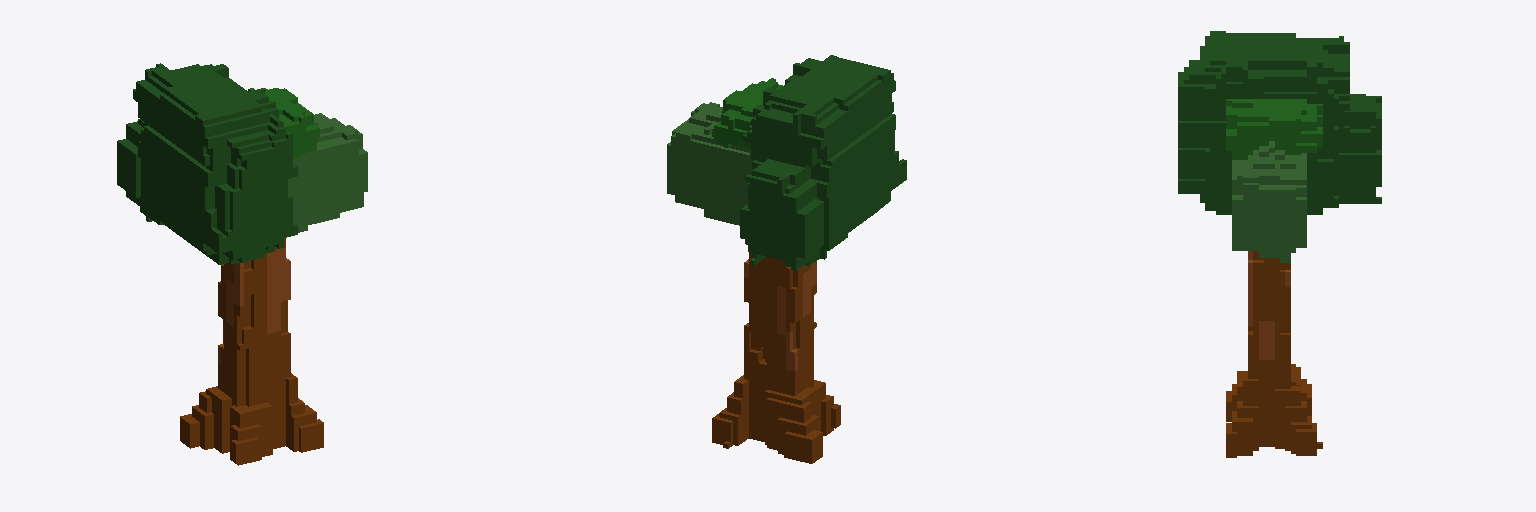
3 renders of one model, left to right at view 1: azimuth 30°, elevation 25°; view 2: azimuth 150°, elevation 25°; view 3: azimuth 270°, elevation 25°, orthographic.
Visible parts, largest first — view 1: object 1; view 2: object 1; view 3: object 1.
Boxes of the visible parts, <box> form: object 1: <box>117,63,367,465</box>; object 1: <box>667,55,906,463</box>; object 1: <box>1178,31,1381,457</box>.
Bounding box in the file's own units: 3.8 × 7.5 × 3.8.
Materials: 1 (1 with a texture image).